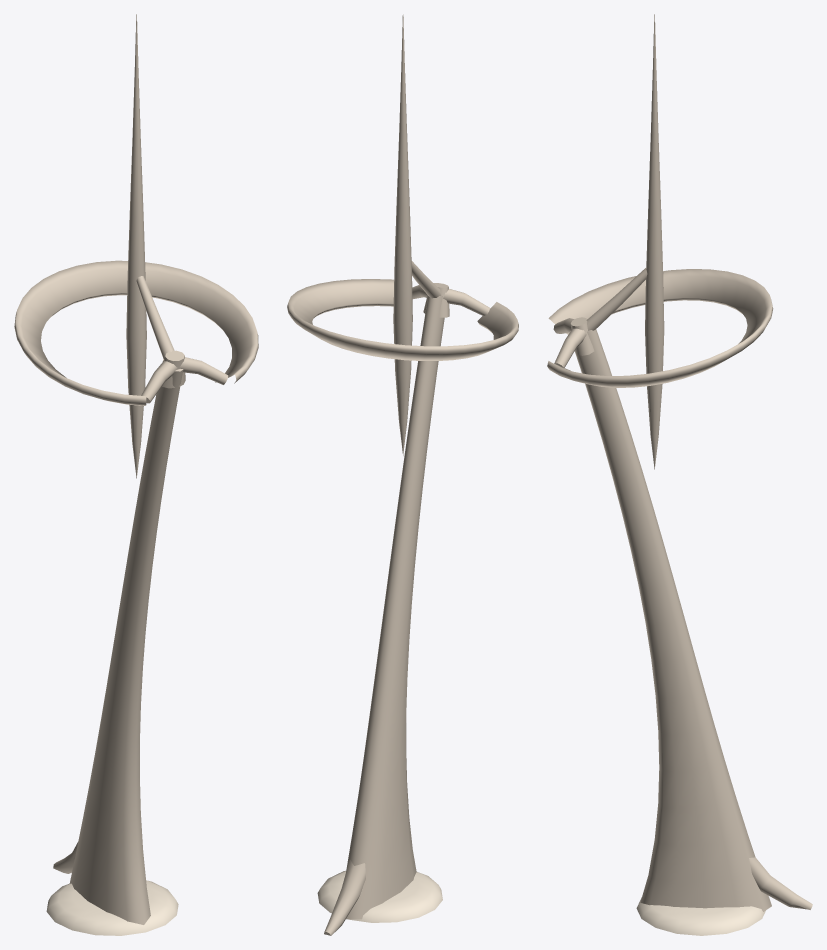
The model's file is barcelona-montjuic-tower.glb.
3 renders of one model, left to right at view 1: azimuth 30°, elevation 25°; view 2: azimuth 150°, elevation 25°; view 3: azimuth 270°, elevation 25°, orthographic. The views are drawn at different scales.
Visible parts, largest first — view 1: Torre de Comunicacions de Montjuïc; view 2: Torre de Comunicacions de Montjuïc; view 3: Torre de Comunicacions de Montjuïc.
Part boxes in pixels (box(x1,y1,x2,y2)): Torre de Comunicacions de Montjuïc: box(14, 14, 258, 935); Torre de Comunicacions de Montjuïc: box(287, 14, 518, 935); Torre de Comunicacions de Montjuïc: box(547, 14, 812, 935).
Bounding box in the file's own units: 33.15 × 136 × 36.62.
